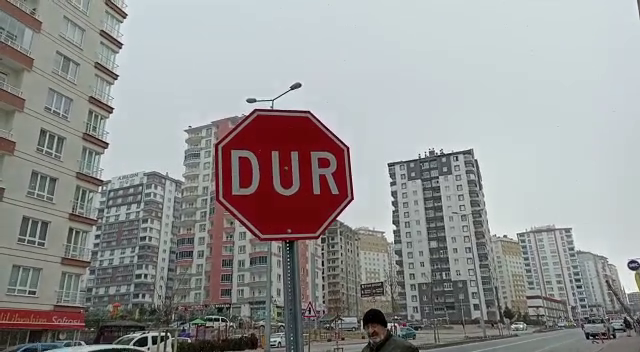stop: (211, 106, 357, 243)
